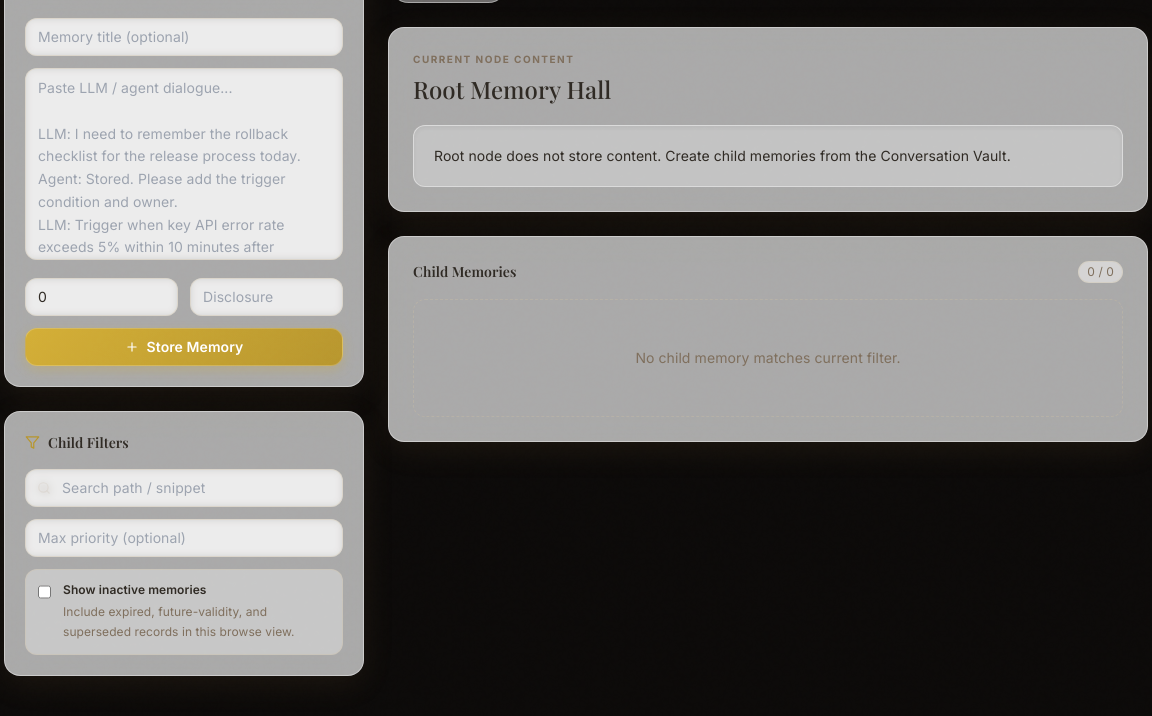
Test: MemoryBrowser › reloads browse data with inactive memories included and shows temporal metadata
(page scrolled)
Click the checkbox labelled "Show inactive memories".
click(44, 592)  # box [38,584,51,600]
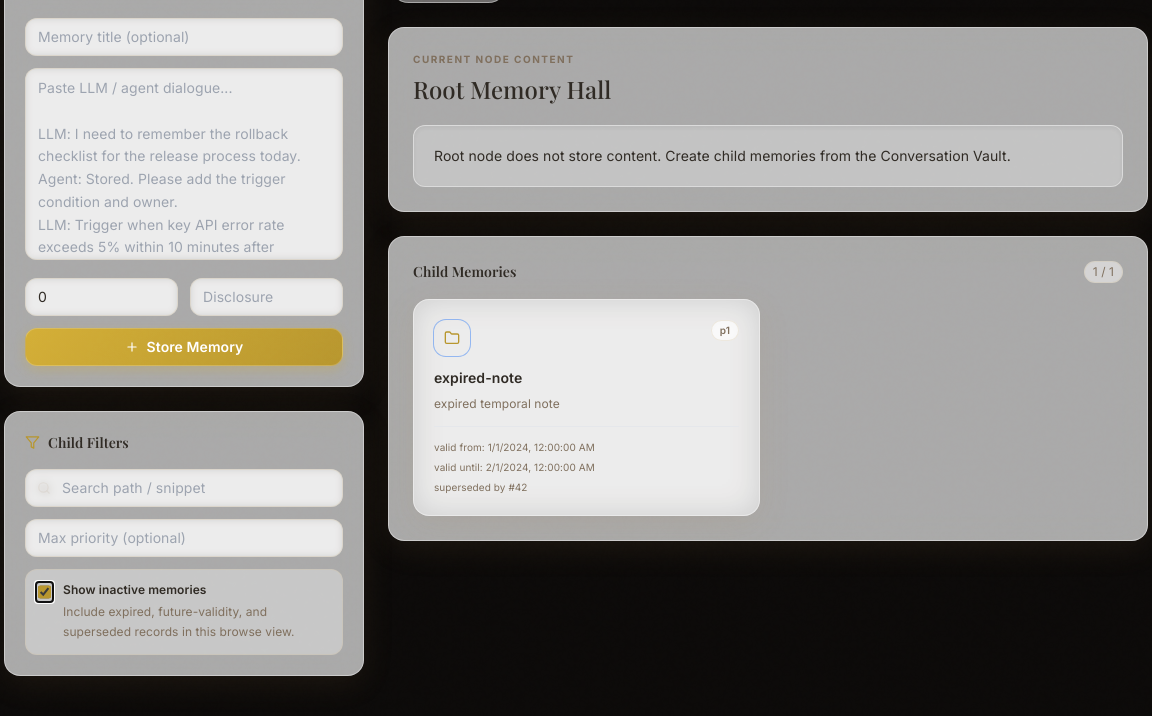
Expected: the text "expired-note" is shown, [434,369,522,386]
Expected: the text "valid from: 1/1/2024, 12:00:00 AM" is shown, [434,440,595,452]
Expected: the text "superseded by #42" is shown, [434,480,528,492]
